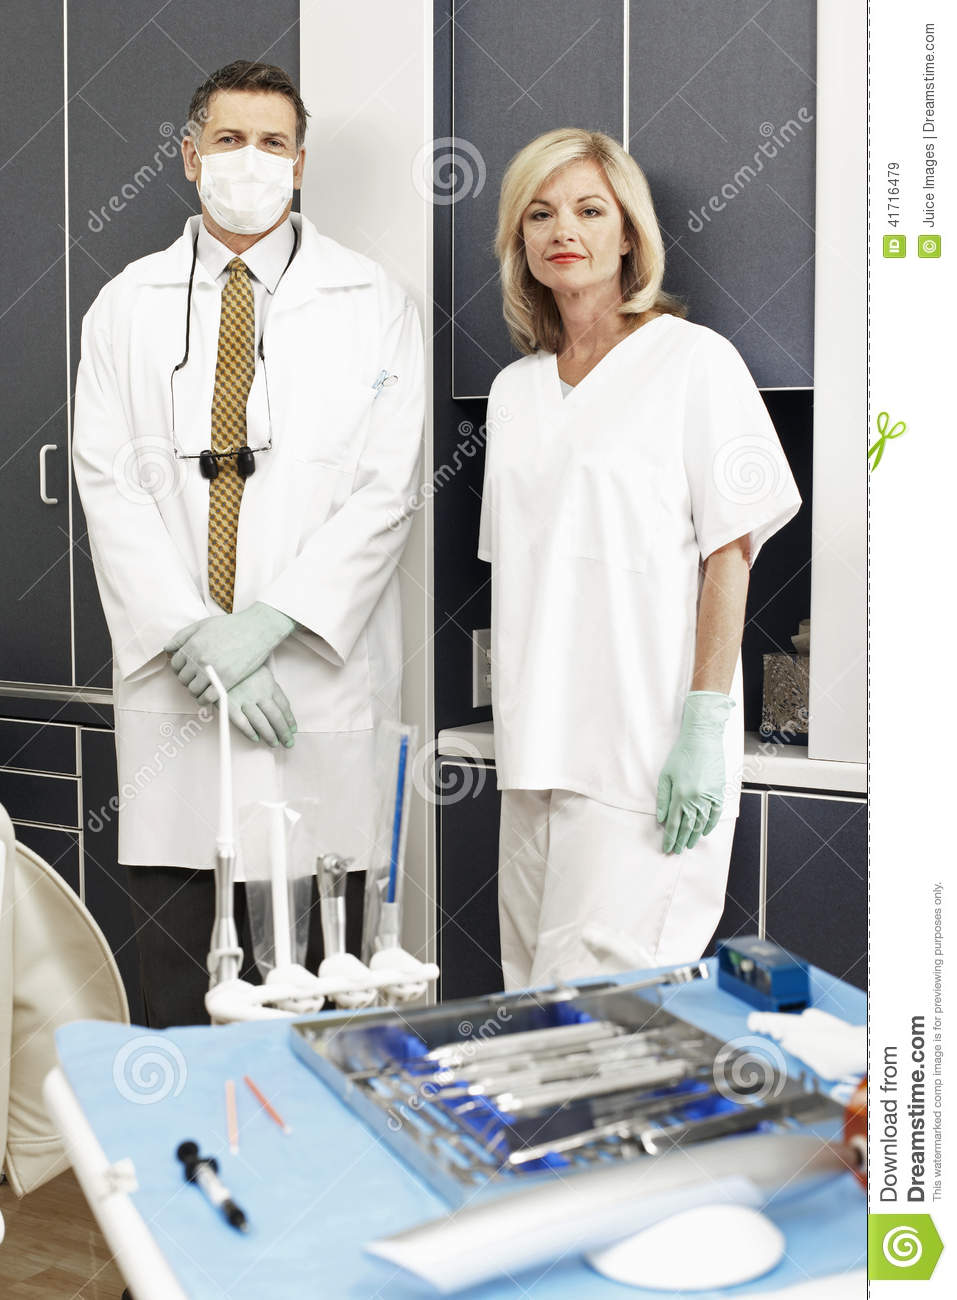mask: (186, 149, 324, 241)
